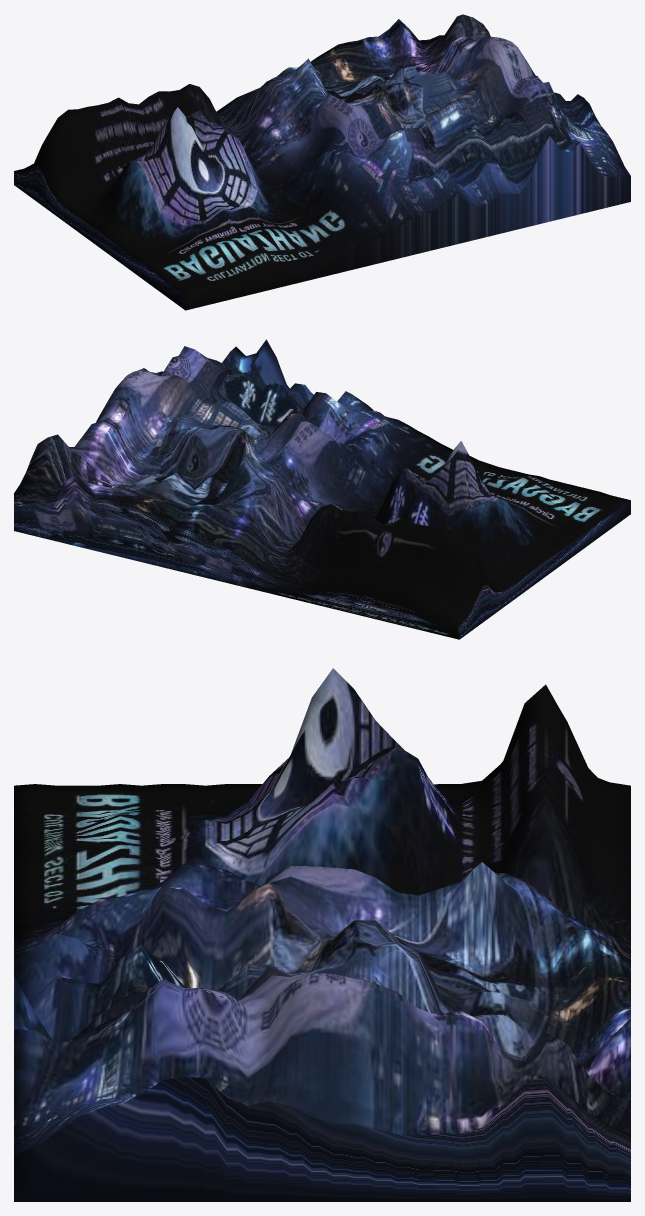
Rendered from SECT_07_Bagua.glb.
3 views of the same model, one above another, from view 1: azimuth 30°, elevation 25°; view 2: azimuth 150°, elevation 25°; view 3: azimuth 270°, elevation 25° (orthographic). The views are drawn at different scales.
Parts seen in each view (by area): view 1: SECT_07_Bagua; view 2: SECT_07_Bagua; view 3: SECT_07_Bagua.
Part boxes in pixels (bbox=[...]): SECT_07_Bagua: bbox=[14, 14, 630, 310]; SECT_07_Bagua: bbox=[14, 339, 630, 639]; SECT_07_Bagua: bbox=[14, 668, 630, 1201].
Size of the model in its own units: 2 by 0.51 by 1.33.
1 material, 1 textured.
